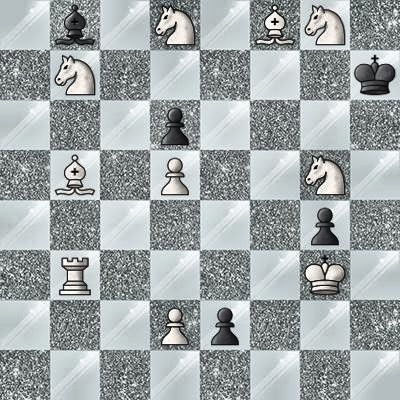black-bishop: (50, 0, 100, 50)
black-king: (350, 50, 400, 100)
black-pawn: (150, 100, 200, 150), (300, 200, 350, 250), (200, 300, 250, 350)
white-bishop: (250, 0, 300, 50), (50, 150, 100, 200)
white-king: (300, 250, 350, 300)
white-knight: (150, 0, 200, 50), (300, 0, 350, 50), (50, 50, 100, 100), (300, 150, 350, 200)
white-pawn: (150, 150, 200, 200), (150, 300, 200, 350)
white-rook: (50, 250, 100, 300)
